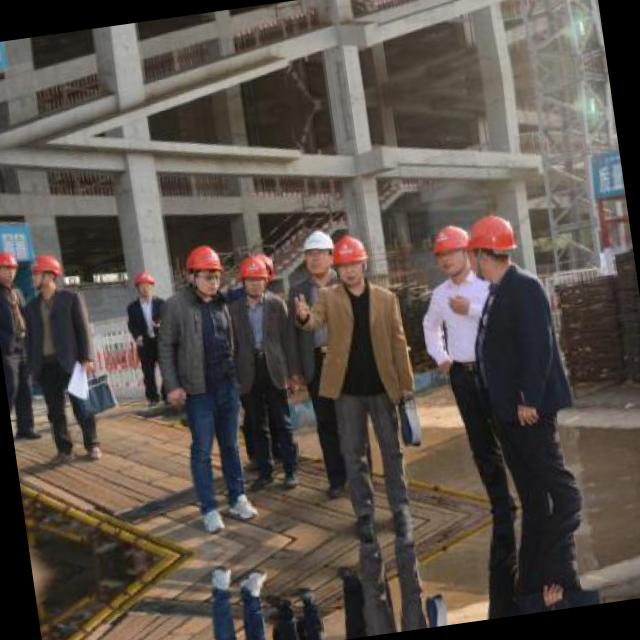helmet: (460, 208, 520, 284), (427, 220, 476, 280), (181, 242, 228, 300), (328, 231, 372, 291), (296, 224, 337, 280), (234, 252, 276, 300), (27, 249, 65, 296), (0, 245, 25, 286), (128, 268, 157, 302)
